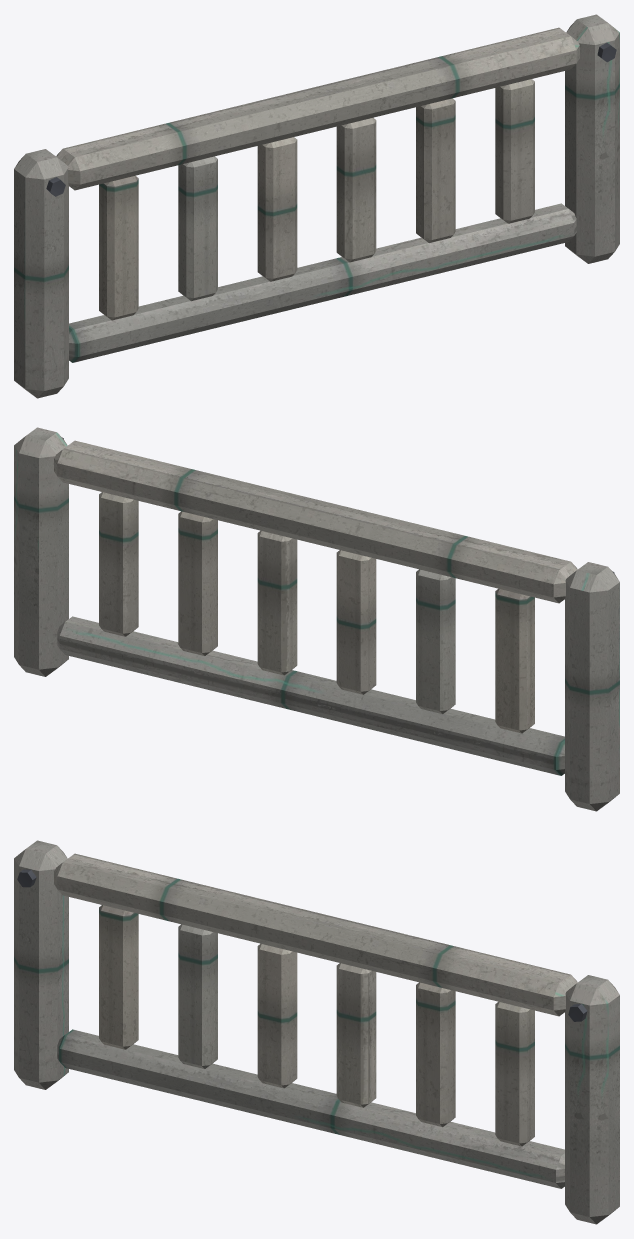
The model's file is parmaklik.glb.
3 renders of one model, top to bottom at view 1: azimuth 30°, elevation 25°; view 2: azimuth 150°, elevation 25°; view 3: azimuth 330°, elevation 25°, orthographic.
Parts seen in each view (by area): view 1: parmaklik; view 2: parmaklik; view 3: parmaklik.
Boxes of the visible parts, bbox=[...] form: parmaklik: bbox=[14, 14, 619, 398]; parmaklik: bbox=[14, 427, 619, 811]; parmaklik: bbox=[14, 840, 619, 1224].
Bounding box in the file's own units: 3 × 1.14 × 0.255.
Materials: 1 (1 with a texture image).
